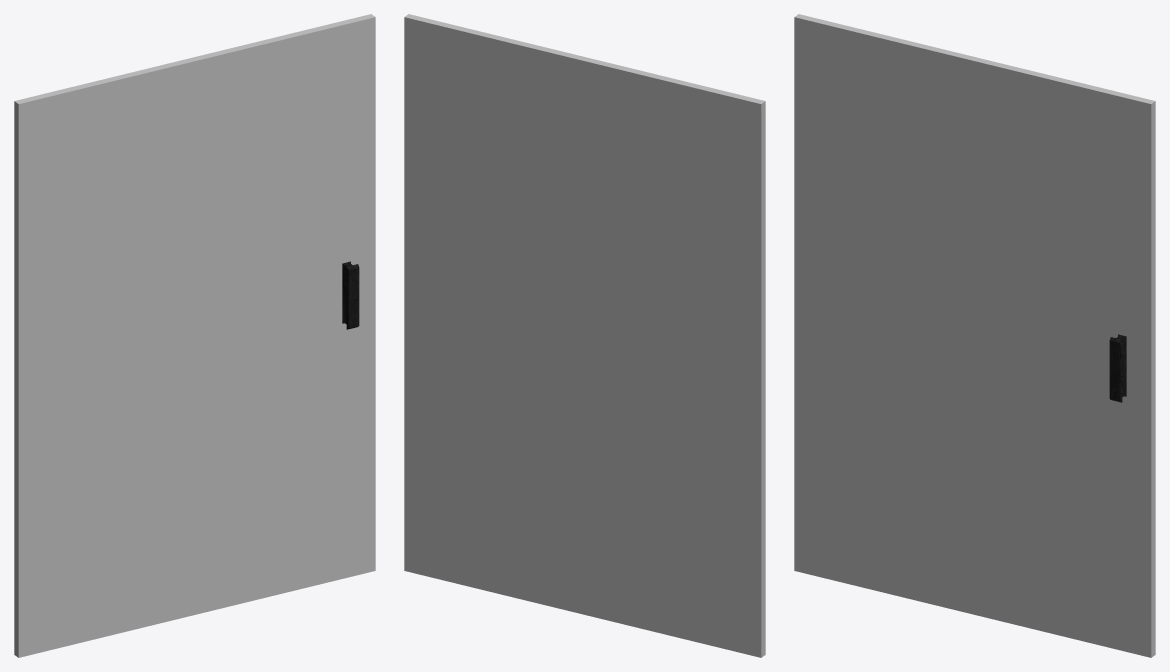
Rendered from keuken2_Left1.fbx.
3 views of the same model, side by side, from view 1: azimuth 30°, elevation 25°; view 2: azimuth 150°, elevation 25°; view 3: azimuth 330°, elevation 25° (orthographic).
Visible parts, largest first — view 1: Cube.006; view 2: Cube.006; view 3: Cube.006.
Boxes of the visible parts, <box> form: Cube.006: <box>14,14,375,657</box>; Cube.006: <box>404,14,765,657</box>; Cube.006: <box>794,14,1155,657</box>.
Size of the model in its own units: 54.07 by 80.15 by 3.05.
